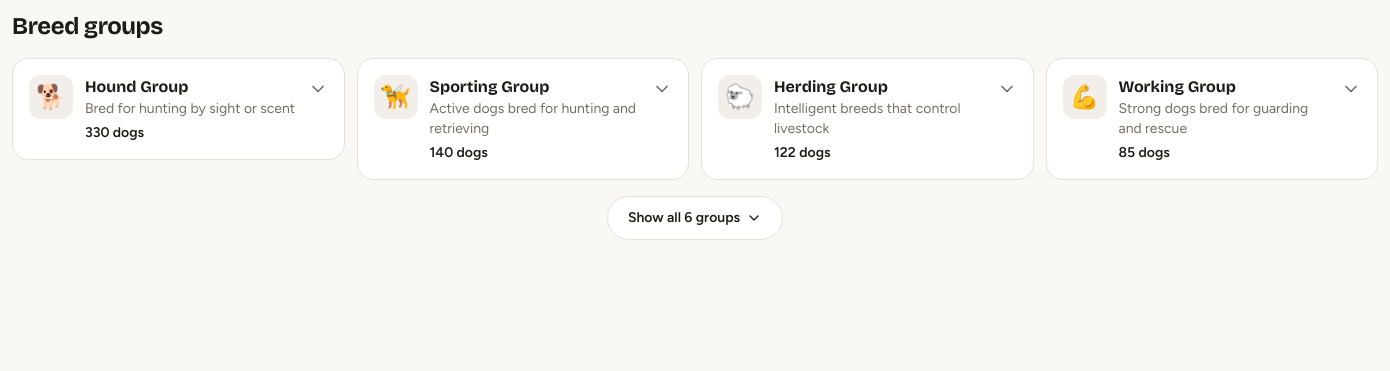
BreedGroupsSection › expands to show all groups when Show More clicked
Click the button "Show all 6 groups" at (695, 218), box [607,196,783,240]
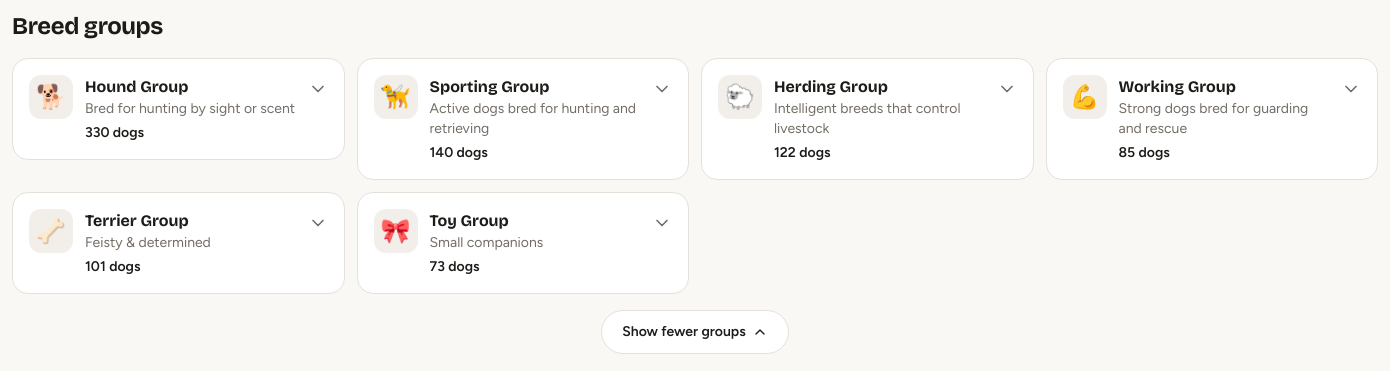
Now the text "Terrier Group" is shown, box [85,211,189,230]
Now the text "Toy Group" is shown, box [430,211,509,230]
Now the button "Show fewer groups" is shown, box [601,310,789,354]
